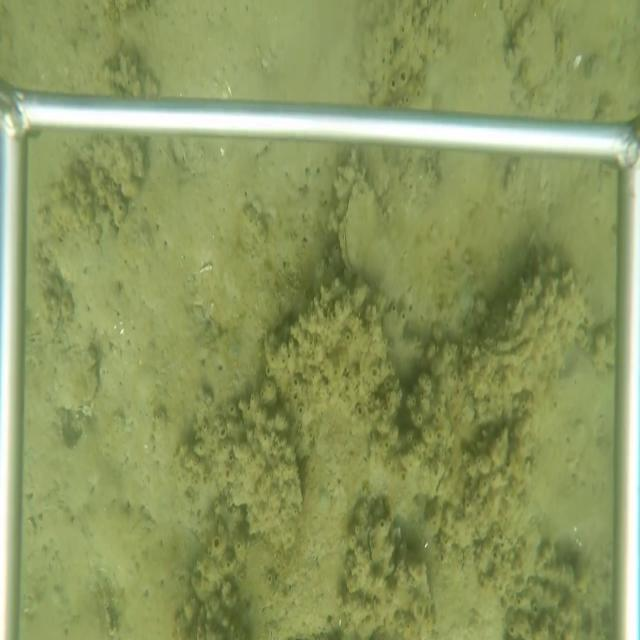Oyster-Closed: (336, 169, 414, 315)
Oyster-Indeterminate: (178, 382, 309, 557), (51, 341, 101, 413)
Oyster-Open: (475, 327, 536, 368)
